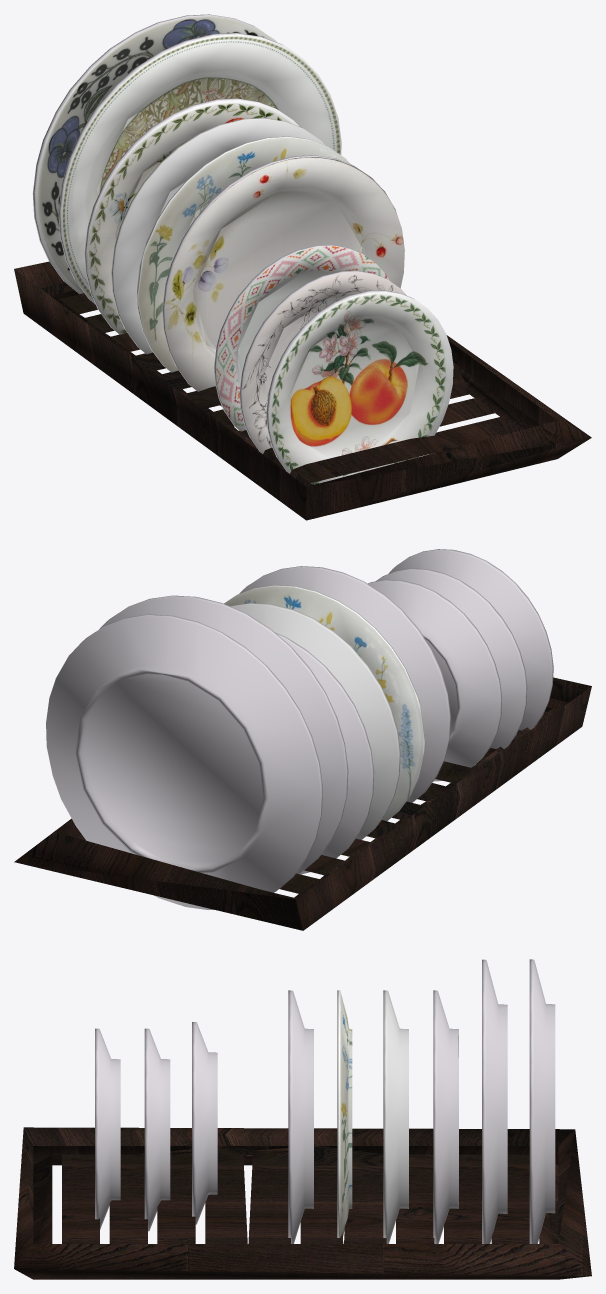
The model's file is plates.fbx.
The picture shows the model from 3 angles, top to bottom: view 1: azimuth 30°, elevation 25°; view 2: azimuth 150°, elevation 25°; view 3: azimuth 270°, elevation 25°; orthographic projection. The views are drawn at different scales.
Parts seen in each view (by area): view 1: Layer0_001, plate_4, plate_1, plate_8, plate_9, plate_7, plate_5, plate_6, plate_3, plate_2; view 2: plate_9, Layer0_001, plate_8, plate_3, plate_4, plate_5, plate_6, plate_1, plate_2, plate_7; view 3: Layer0_001, plate_9, plate_8, plate_4, plate_6, plate_7, plate_2, plate_3, plate_1, plate_5.
Part boxes in pixels (left/top/right/bottom): Layer0_001: left=14, top=261, right=591, bottom=520; plate_4: left=162, top=155, right=404, bottom=406; plate_1: left=266, top=290, right=453, bottom=484; plate_8: left=58, top=33, right=341, bottom=304; plate_9: left=32, top=14, right=276, bottom=293; plate_7: left=84, top=98, right=298, bottom=334; plate_5: left=137, top=136, right=350, bottom=372; plate_6: left=111, top=118, right=325, bottom=354; plate_3: left=214, top=245, right=389, bottom=431; plate_2: left=239, top=270, right=406, bottom=453; plate_9: left=46, top=614, right=322, bottom=909; Layer0_001: left=14, top=677, right=591, bottom=930; plate_8: left=99, top=595, right=348, bottom=873; plate_3: left=368, top=579, right=501, bottom=781; plate_4: left=239, top=566, right=450, bottom=802; plate_5: left=224, top=585, right=425, bottom=821; plate_6: left=230, top=603, right=400, bottom=839; plate_1: left=388, top=549, right=553, bottom=730; plate_2: left=375, top=568, right=527, bottom=765; plate_7: left=275, top=632, right=374, bottom=874; Layer0_001: left=14, top=1127, right=591, bottom=1279; plate_9: left=529, top=959, right=555, bottom=1243; plate_8: left=482, top=959, right=507, bottom=1243; plate_4: left=288, top=990, right=313, bottom=1243; plate_6: left=383, top=990, right=408, bottom=1243; plate_7: left=433, top=990, right=458, bottom=1243; plate_2: left=144, top=1028, right=170, bottom=1231; plate_3: left=192, top=1022, right=217, bottom=1224; plate_1: left=95, top=1028, right=120, bottom=1229; plate_5: left=337, top=990, right=352, bottom=1237.
Bounding box in the file's own units: 21.26 × 20.93 × 40.63.
